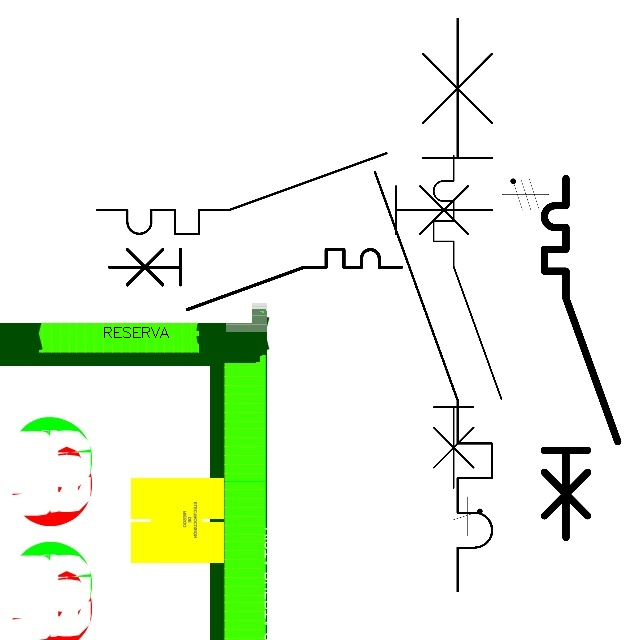interruptor_termomagnetico: (360, 4, 507, 606), (87, 143, 502, 244), (535, 169, 627, 547), (425, 147, 510, 496), (102, 242, 409, 317)
